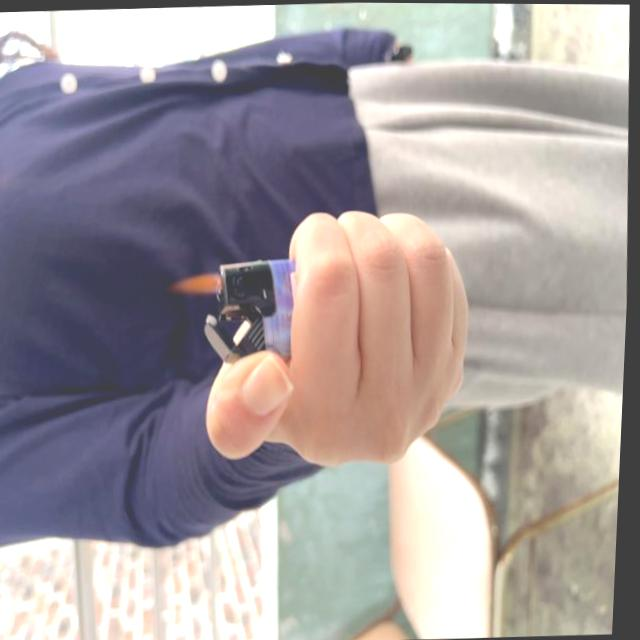Fire: (174, 268, 227, 297)
